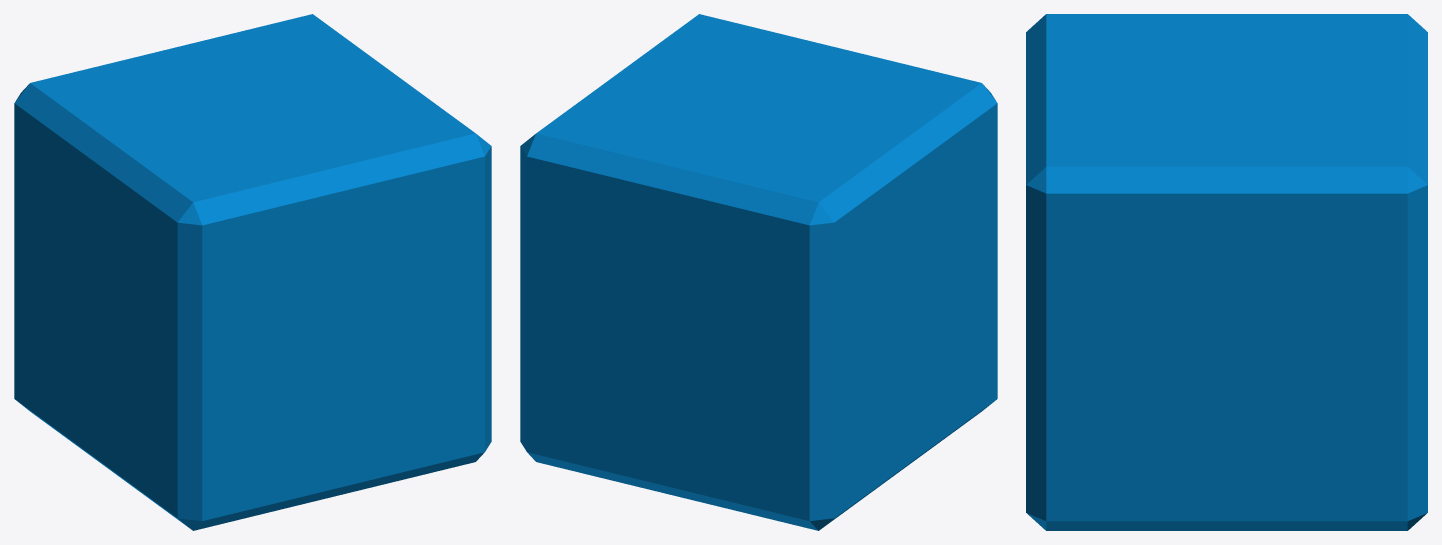
The picture shows the model from 3 angles, left to right: view 1: azimuth 30°, elevation 25°; view 2: azimuth 150°, elevation 25°; view 3: azimuth 270°, elevation 25°; orthographic projection. The views are drawn at different scales.
Visible parts, largest first — view 1: Cube01, Cube01_cell_002, Cube01_cell_006, Cube01_cell_008, Cube01_cell_001, Cube01_cell_009, Cube01_cell_003, Cube01_cell_007; view 2: Cube01, Cube01_cell_006, Cube01_cell_002, Cube01_cell_008, Cube01_cell_001, Cube01_cell_009, Cube01_cell_003, Cube01_cell_005; view 3: Cube01, Cube01_cell_002, Cube01_cell_001, Cube01_cell_008, Cube01_cell_000, Cube01_cell_005, Cube01_cell_007, Cube01_cell_004.
Part boxes in pixels (x1,y1,x2,y2): Cube01: (14,18,491,530); Cube01_cell_002: (124,76,491,324); Cube01_cell_006: (14,103,87,453); Cube01_cell_008: (30,19,292,157); Cube01_cell_001: (284,14,397,100); Cube01_cell_009: (84,150,350,528); Cube01_cell_003: (177,455,213,524); Cube01_cell_007: (343,461,447,494); Cube01: (520,71,997,530); Cube01_cell_006: (809,172,907,528); Cube01_cell_002: (622,14,990,134); Cube01_cell_008: (556,100,909,224); Cube01_cell_001: (520,71,727,320); Cube01_cell_009: (906,93,997,466); Cube01_cell_003: (974,335,997,415); Cube01_cell_005: (520,291,678,489); Cube01: (1026,14,1427,530); Cube01_cell_002: (1026,14,1226,357); Cube01_cell_001: (1217,107,1427,362); Cube01_cell_008: (1205,14,1407,155); Cube01_cell_000: (1226,363,1413,530); Cube01_cell_005: (1251,353,1419,523); Cube01_cell_007: (1094,521,1226,530); Cube01_cell_004: (1027,513,1096,530).
Bounding box in the file's own units: 2 × 2 × 2.
